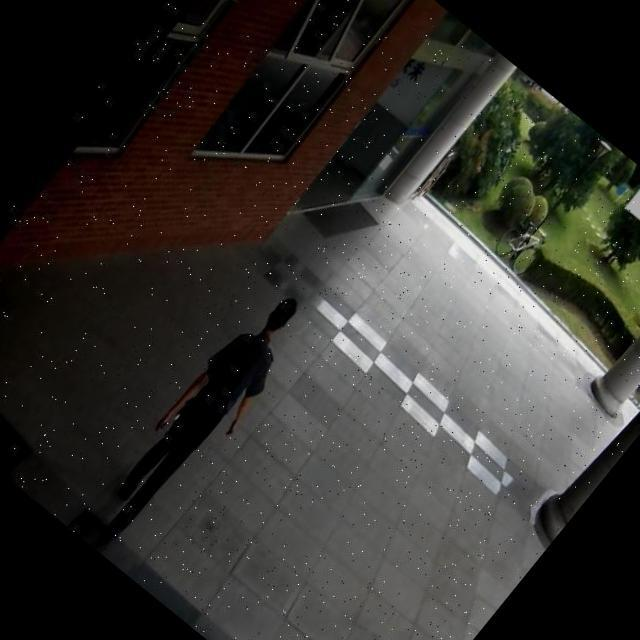person: (70, 271, 330, 569)
